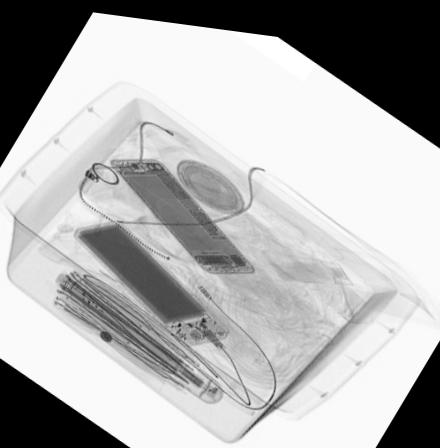Powerbank: (70, 220, 237, 344)
